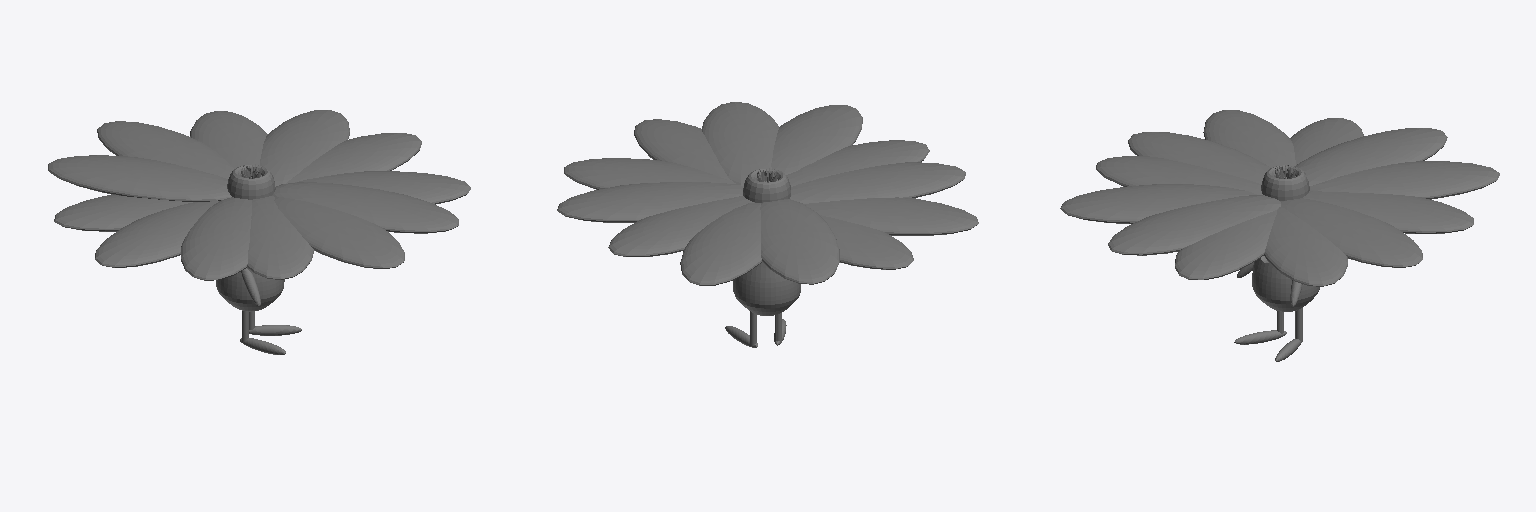
The model's file is Vileplume.obj.
3 views of the same model, side by side, from view 1: azimuth 30°, elevation 25°; view 2: azimuth 150°, elevation 25°; view 3: azimuth 270°, elevation 25° (orthographic).
Parts seen in each view (by area): view 1: polySurface23, polySurface25, pTorus2; view 2: polySurface23, polySurface25, pTorus2; view 3: polySurface23, polySurface25, pTorus2.
Part boxes in pixels (x1,y1,x2,y2): polySurface23: (48, 110, 470, 280); polySurface25: (216, 268, 301, 354); pTorus2: (227, 165, 275, 199); polySurface23: (557, 102, 978, 285); polySurface25: (725, 262, 800, 347); pTorus2: (743, 169, 790, 202); polySurface23: (1060, 110, 1499, 286); polySurface25: (1234, 256, 1319, 361); pTorus2: (1261, 165, 1309, 200).
Size of the model in its own units: 13.91 by 6.39 by 14.51.